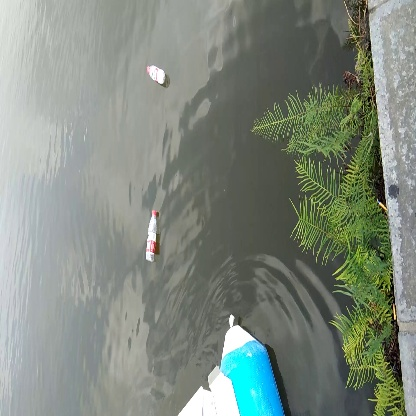bottle: (143, 208, 162, 266), (140, 61, 171, 89)
